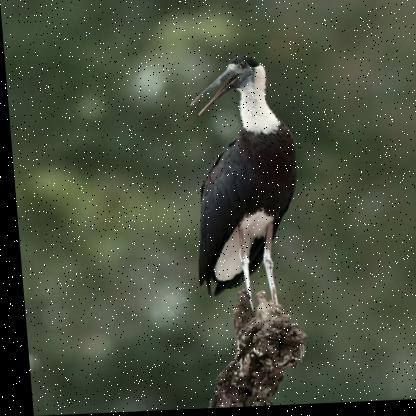Burung: (182, 57, 307, 320)
